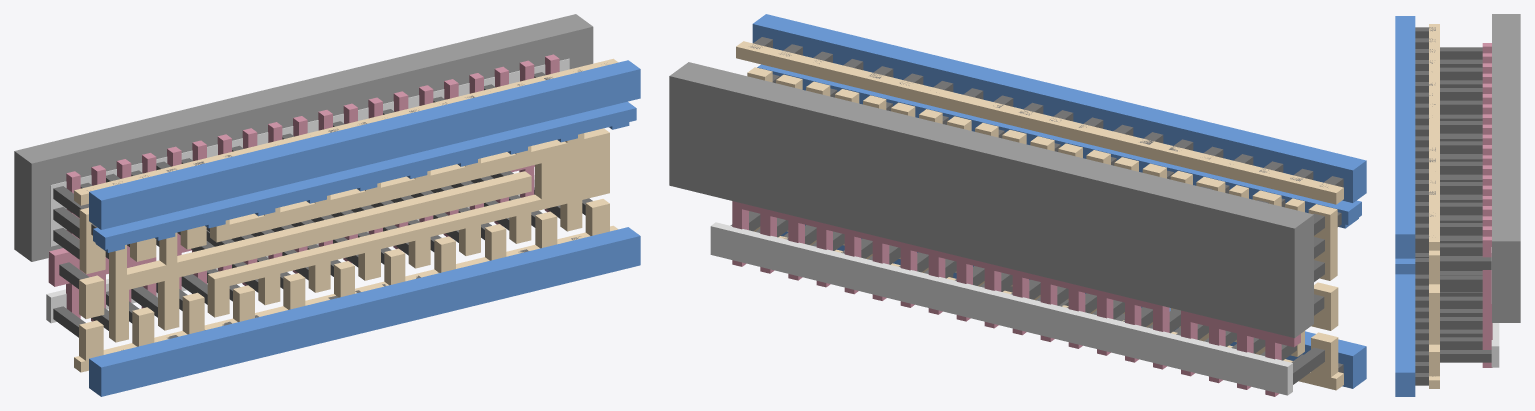
The model's file is sky130_fd_sc_hd__lpflow_clkbufkapwr_16.gds.gltf.
The picture shows the model from 3 angles, left to right: view 1: azimuth 30°, elevation 25°; view 2: azimuth 150°, elevation 25°; view 3: azimuth 270°, elevation 25°; orthographic projection. The views are drawn at different scales.
Visible parts, largest first — view 1: sky130_fd_sc_hd__lpflow_clkbufkapwr_16_met1, sky130_fd_sc_hd__lpflow_clkbufkapwr_16_li1, sky130_fd_sc_hd__lpflow_clkbufkapwr_16_nwell, sky130_fd_sc_hd__lpflow_clkbufkapwr_16_poly, sky130_fd_sc_hd__lpflow_clkbufkapwr_16_licon, sky130_fd_sc_hd__lpflow_clkbufkapwr_16_diff; view 2: sky130_fd_sc_hd__lpflow_clkbufkapwr_16_nwell, sky130_fd_sc_hd__lpflow_clkbufkapwr_16_met1, sky130_fd_sc_hd__lpflow_clkbufkapwr_16_li1, sky130_fd_sc_hd__lpflow_clkbufkapwr_16_diff, sky130_fd_sc_hd__lpflow_clkbufkapwr_16_poly, sky130_fd_sc_hd__lpflow_clkbufkapwr_16_licon, sky130_fd_sc_hd__lpflow_clkbufkapwr_16_mcon; view 3: sky130_fd_sc_hd__lpflow_clkbufkapwr_16_licon, sky130_fd_sc_hd__lpflow_clkbufkapwr_16_nwell, sky130_fd_sc_hd__lpflow_clkbufkapwr_16_met1, sky130_fd_sc_hd__lpflow_clkbufkapwr_16_mcon, sky130_fd_sc_hd__lpflow_clkbufkapwr_16_li1, sky130_fd_sc_hd__lpflow_clkbufkapwr_16_poly, sky130_fd_sc_hd__lpflow_clkbufkapwr_16_diff.
Boxes of the visible parts, left/top/right/bottom form: sky130_fd_sc_hd__lpflow_clkbufkapwr_16_met1: left=89, top=60, right=640, bottom=396; sky130_fd_sc_hd__lpflow_clkbufkapwr_16_li1: left=74, top=58, right=618, bottom=372; sky130_fd_sc_hd__lpflow_clkbufkapwr_16_nwell: left=14, top=14, right=593, bottom=261; sky130_fd_sc_hd__lpflow_clkbufkapwr_16_poly: left=48, top=54, right=559, bottom=321; sky130_fd_sc_hd__lpflow_clkbufkapwr_16_licon: left=53, top=72, right=592, bottom=337; sky130_fd_sc_hd__lpflow_clkbufkapwr_16_diff: left=46, top=58, right=569, bottom=323; sky130_fd_sc_hd__lpflow_clkbufkapwr_16_nwell: left=669, top=62, right=1313, bottom=337; sky130_fd_sc_hd__lpflow_clkbufkapwr_16_met1: left=752, top=14, right=1366, bottom=388; sky130_fd_sc_hd__lpflow_clkbufkapwr_16_li1: left=736, top=41, right=1343, bottom=390; sky130_fd_sc_hd__lpflow_clkbufkapwr_16_diff: left=710, top=222, right=1292, bottom=395; sky130_fd_sc_hd__lpflow_clkbufkapwr_16_poly: left=732, top=201, right=1300, bottom=396; sky130_fd_sc_hd__lpflow_clkbufkapwr_16_licon: left=730, top=186, right=1324, bottom=384; sky130_fd_sc_hd__lpflow_clkbufkapwr_16_mcon: left=750, top=37, right=1343, bottom=373; sky130_fd_sc_hd__lpflow_clkbufkapwr_16_licon: left=1440, top=47, right=1491, bottom=362; sky130_fd_sc_hd__lpflow_clkbufkapwr_16_nwell: left=1492, top=14, right=1520, bottom=322; sky130_fd_sc_hd__lpflow_clkbufkapwr_16_met1: left=1395, top=16, right=1415, bottom=396; sky130_fd_sc_hd__lpflow_clkbufkapwr_16_mcon: left=1415, top=27, right=1435, bottom=385; sky130_fd_sc_hd__lpflow_clkbufkapwr_16_li1: left=1429, top=24, right=1439, bottom=388; sky130_fd_sc_hd__lpflow_clkbufkapwr_16_poly: left=1482, top=43, right=1492, bottom=367; sky130_fd_sc_hd__lpflow_clkbufkapwr_16_diff: left=1491, top=247, right=1499, bottom=367.
Size of the model in its own units: 9.58 by 3.2 by 2.24.
